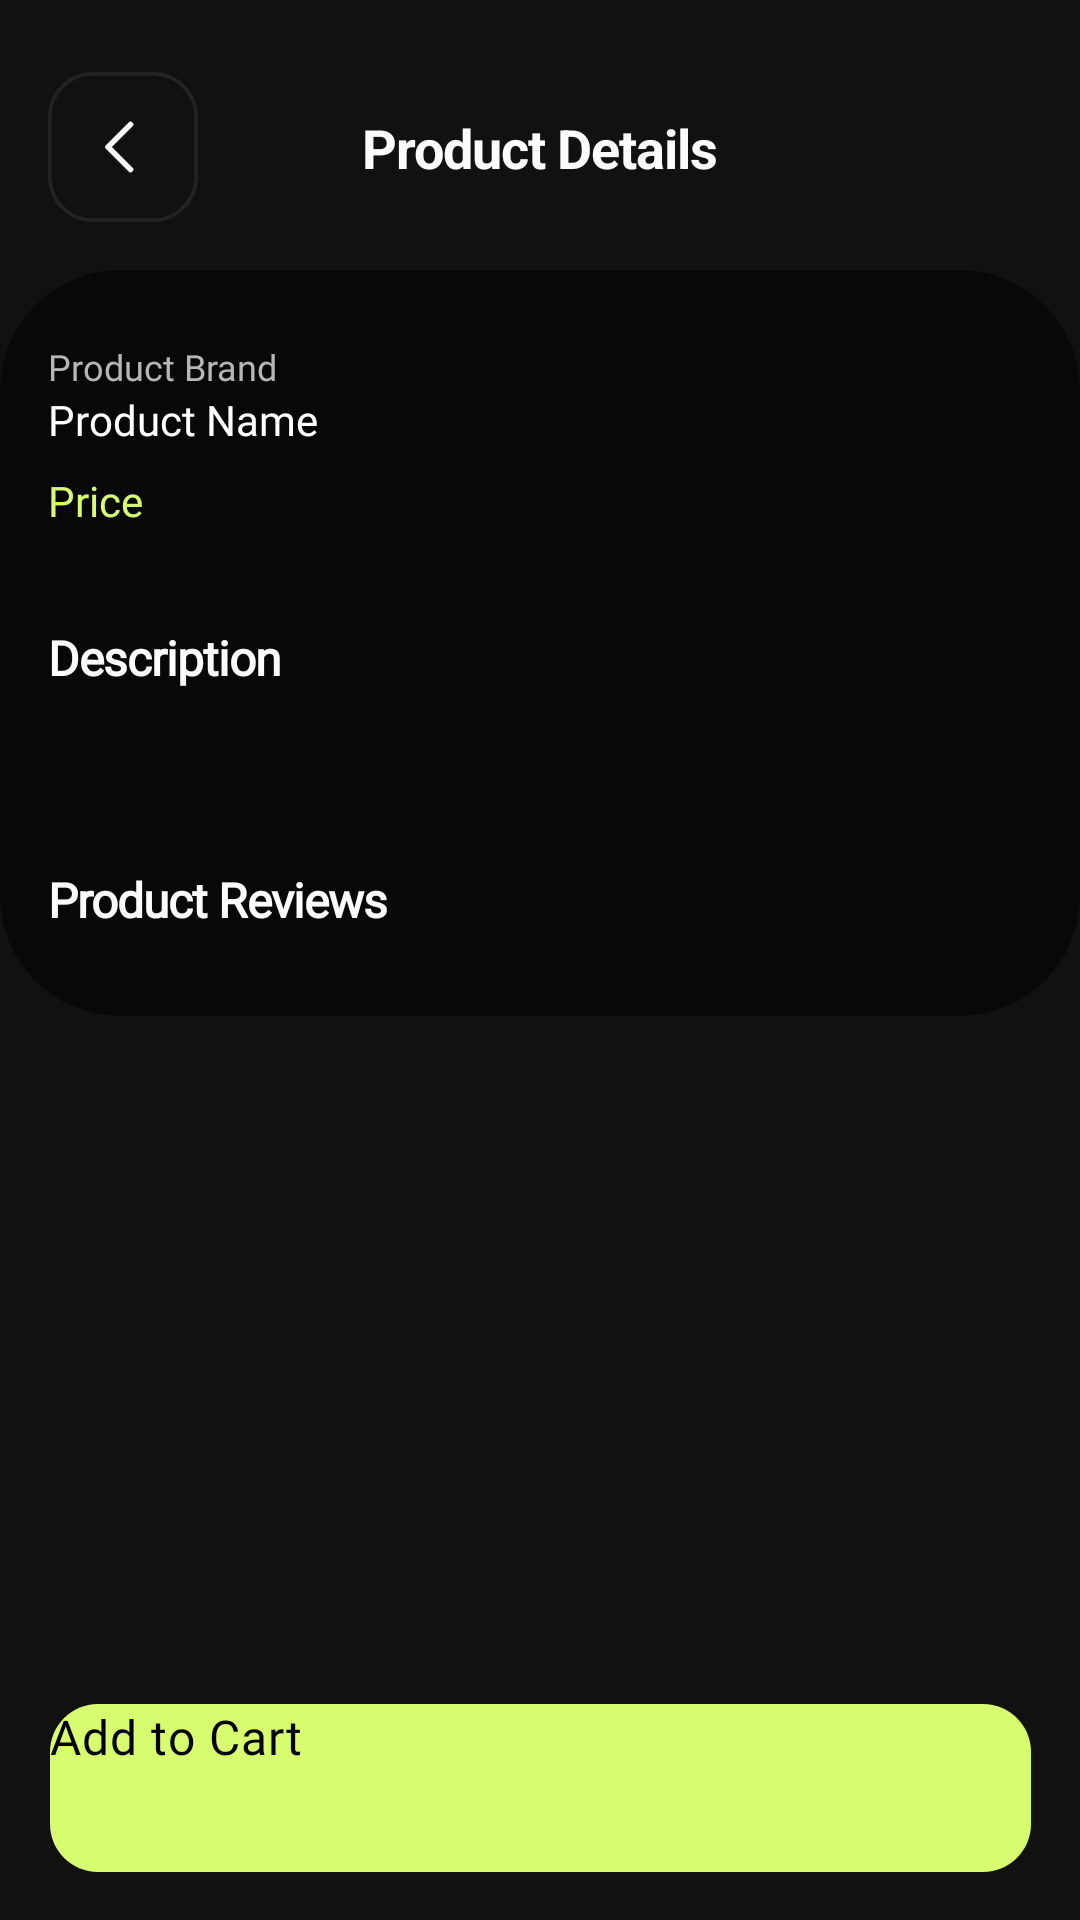

Screen size 1080 x 1920. Icon name, then its box in pixels as (x1, y1, x2, y2):
back: (105, 121, 134, 173)
